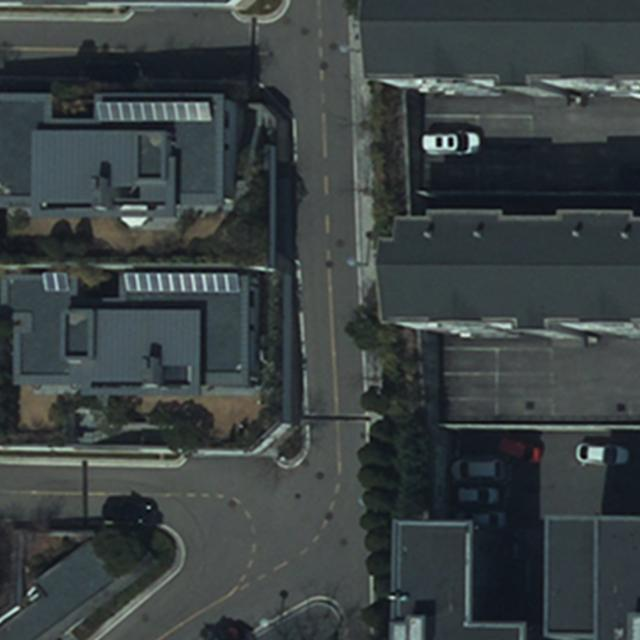solarpanel: (120, 272, 242, 296), (90, 99, 212, 122), (38, 272, 75, 295)
